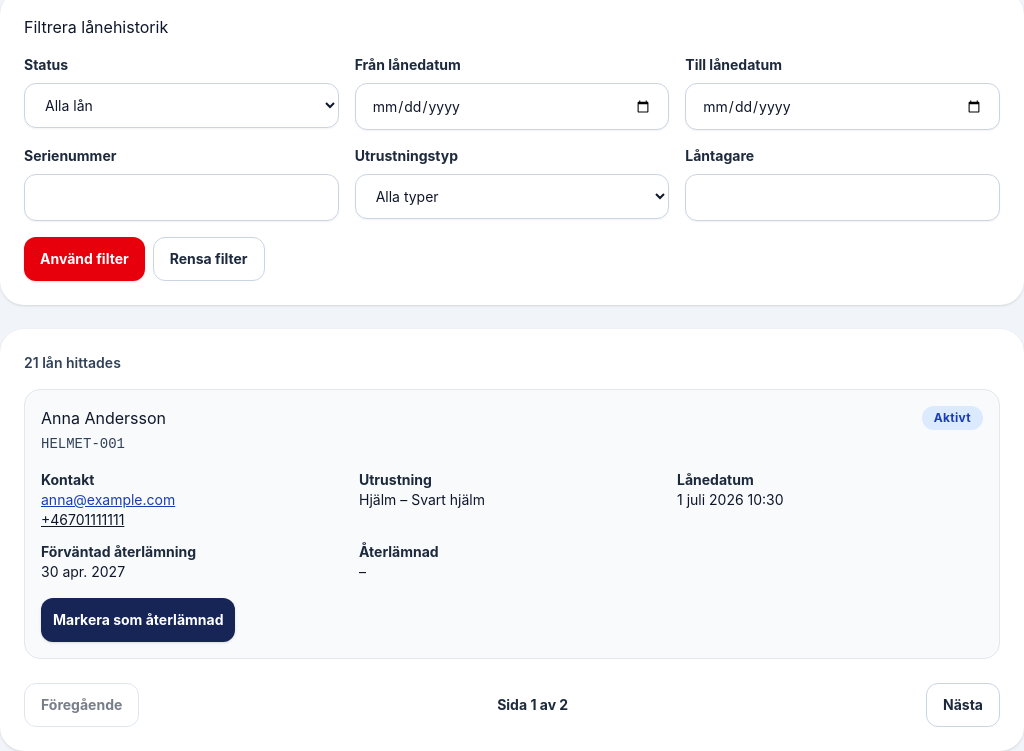
Test case: ActiveLoansPage › loads next page through accessible pagination
(page scrolled)
Check: the heading "Anna Andersson" is shown, box 41,406 -> 166,430
Check: the navigation bar named "sidindelning" is shown, box 24,683 -> 1000,727
Step 1. Click the button "Nästa" → (963, 705), box 926,683 -> 1000,727
(page scrolled)
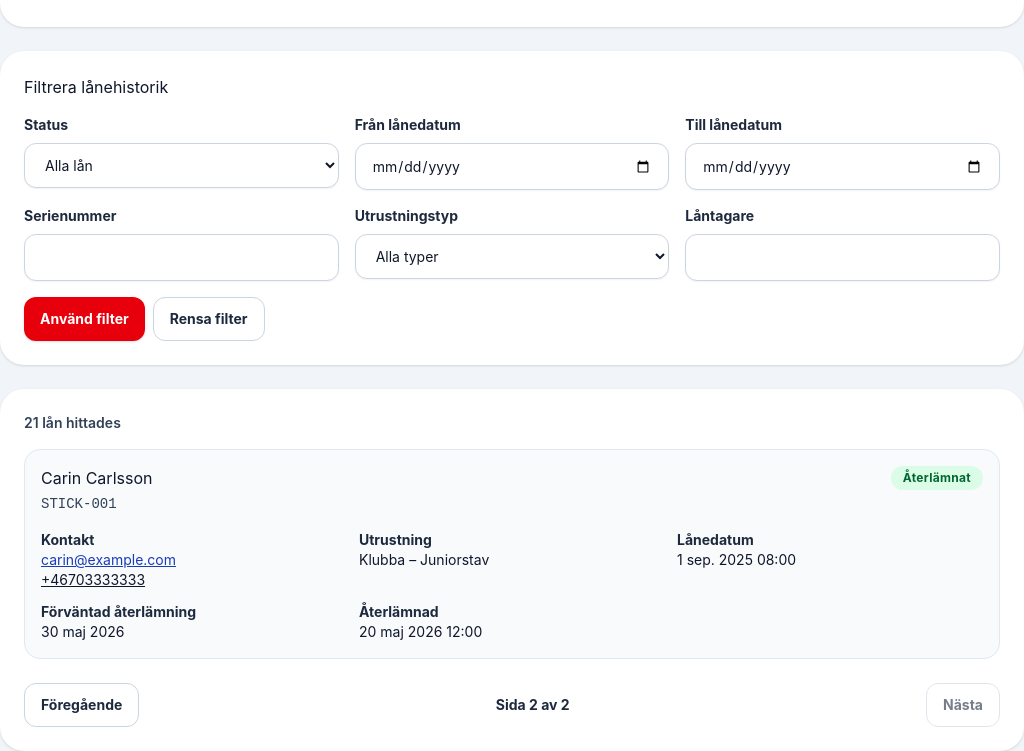
Check: the heading "Carin Carlsson" is shown, box 41,466 -> 152,490
Check: the text "Sida 2 av 2" is shown, box 496,695 -> 570,715
